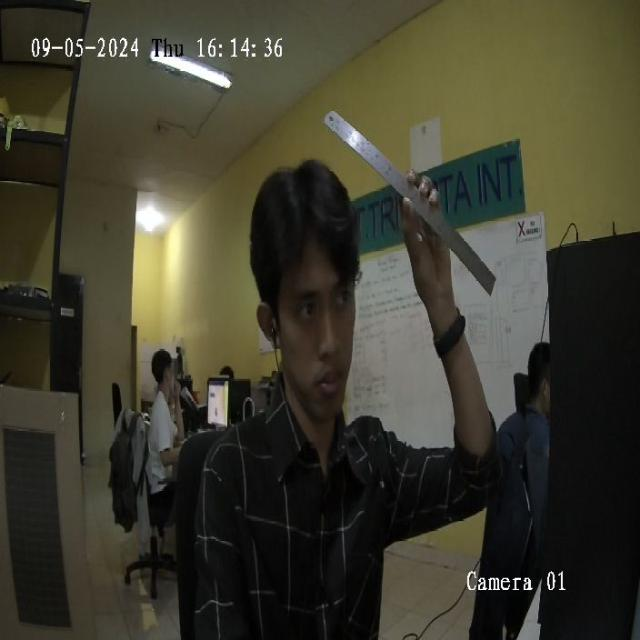Ruler: (324, 111, 495, 293)
